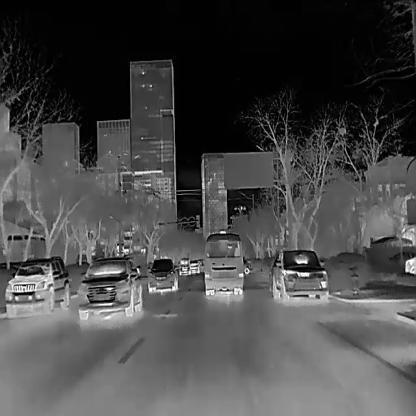car: (76, 256, 142, 321), (1, 254, 69, 313), (269, 249, 327, 300), (202, 228, 244, 296), (147, 257, 177, 292), (178, 257, 190, 275), (405, 255, 415, 274), (190, 260, 199, 273)
